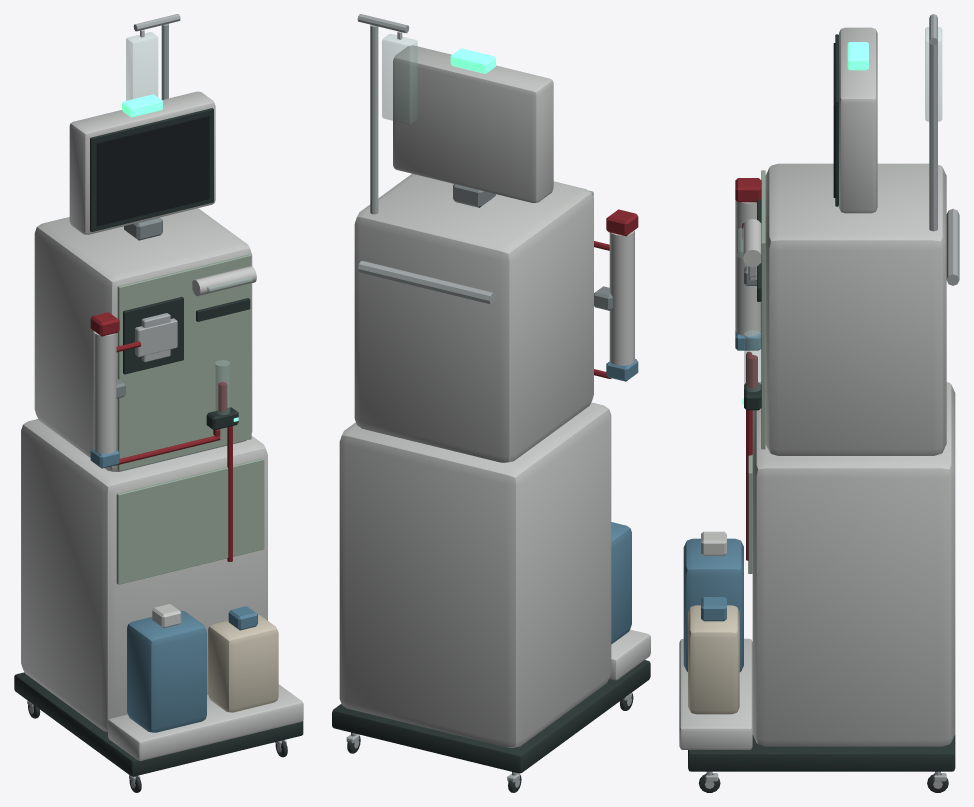
The model's file is dialysis-machine.glb.
3 renders of one model, left to right at view 1: azimuth 30°, elevation 25°; view 2: azimuth 150°, elevation 25°; view 3: azimuth 270°, elevation 25°, orthographic. The views are drawn at different scales.
Visible parts, largest first — view 1: dialysis-machine; view 2: dialysis-machine; view 3: dialysis-machine.
Boxes of the visible parts, box(x1,y1,x2,y2) form: dialysis-machine: box(14, 14, 303, 792); dialysis-machine: box(332, 14, 650, 792); dialysis-machine: box(679, 14, 959, 792).
Size of the model in its own units: 0.55 by 1.93 by 0.65.
